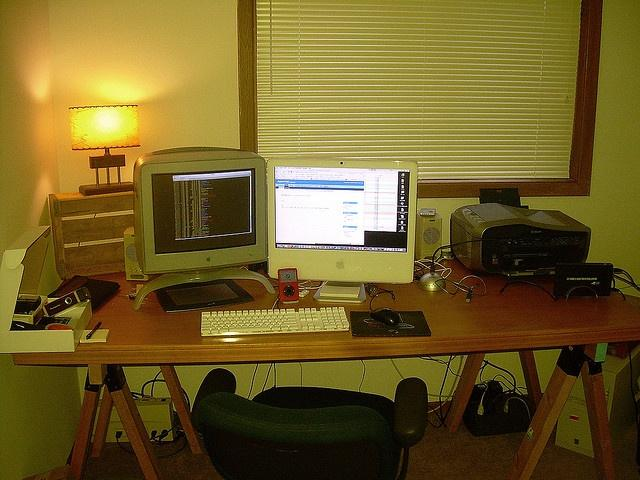AIO PC-Monitor-TV: (265, 156, 418, 302)
Kursi: (189, 367, 430, 479)
Meja: (10, 252, 639, 392)
Printer: (448, 186, 593, 277)
